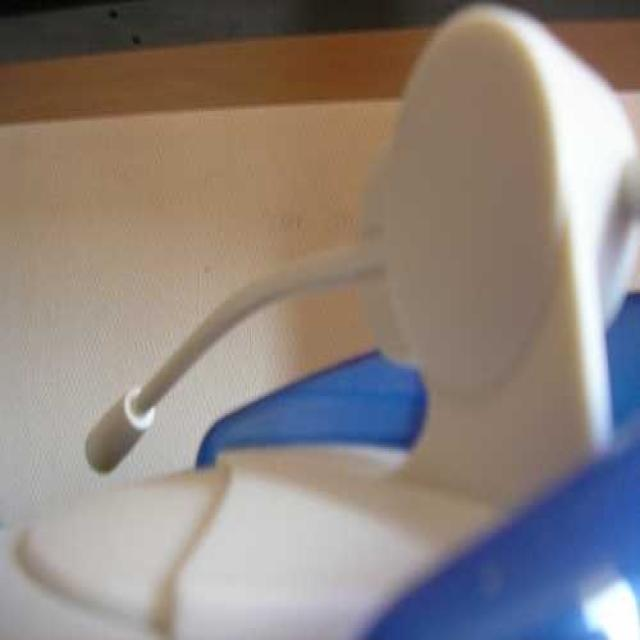microphone: (85, 384, 156, 474)
